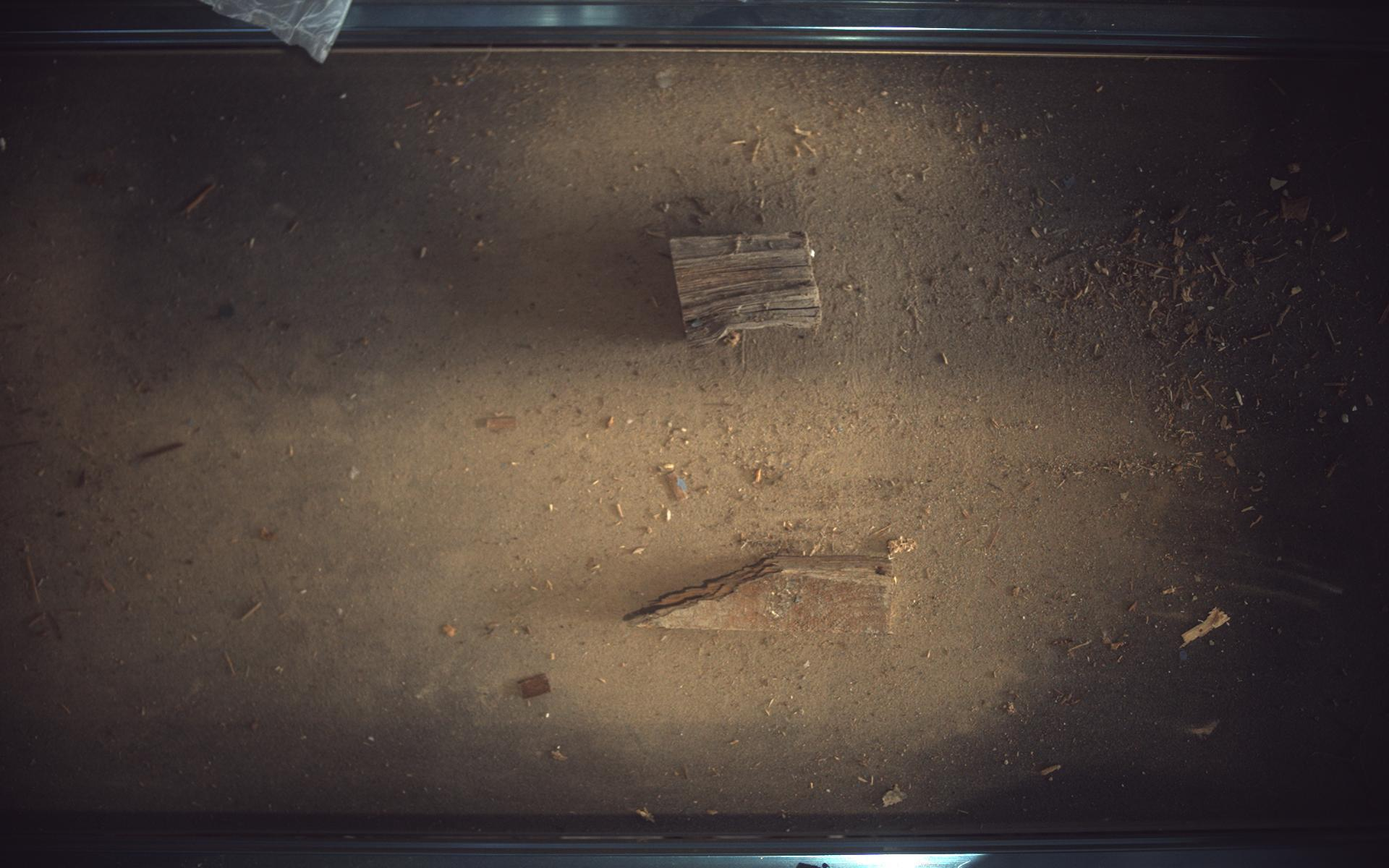wood: (626, 556, 896, 634), (671, 232, 823, 345)
